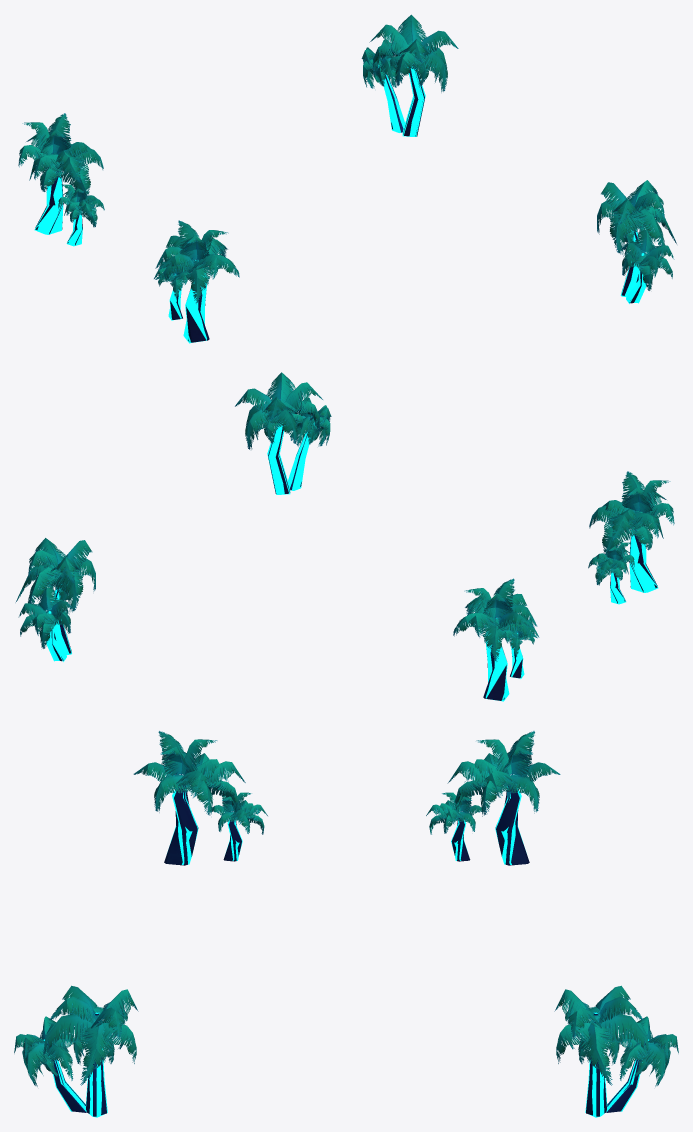
The model's file is entity16020.gltf.
The picture shows the model from 3 angles, top to bottom: view 1: azimuth 30°, elevation 25°; view 2: azimuth 150°, elevation 25°; view 3: azimuth 270°, elevation 25°; orthographic projection. The views are drawn at different scales.
Visible parts, largest first — view 1: node_PalmBuildingInterior_Art; view 2: node_PalmBuildingInterior_Art; view 3: node_PalmBuildingInterior_Art.
Part boxes in pixels (x1,y1,x2,y2): node_PalmBuildingInterior_Art: [18, 14, 676, 343]; node_PalmBuildingInterior_Art: [15, 372, 674, 701]; node_PalmBuildingInterior_Art: [14, 731, 678, 1117].
Size of the model in its own units: 60.46 by 16.31 by 64.33.
2 materials, 1 textured.
